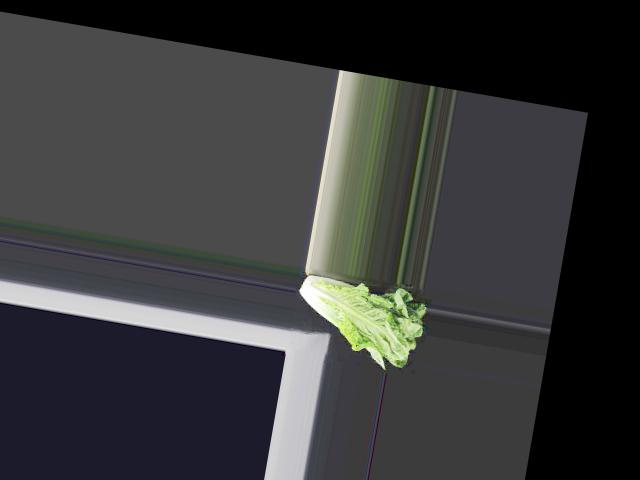lettuce: (287, 270, 431, 373)
